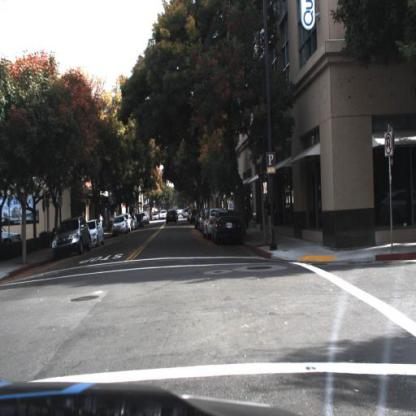car: (50, 213, 93, 259), (211, 208, 248, 252), (2, 223, 23, 252), (86, 219, 107, 248), (205, 211, 217, 242), (113, 214, 129, 235), (167, 209, 181, 225)
pedestrian: (266, 199, 277, 245), (244, 198, 254, 225)
